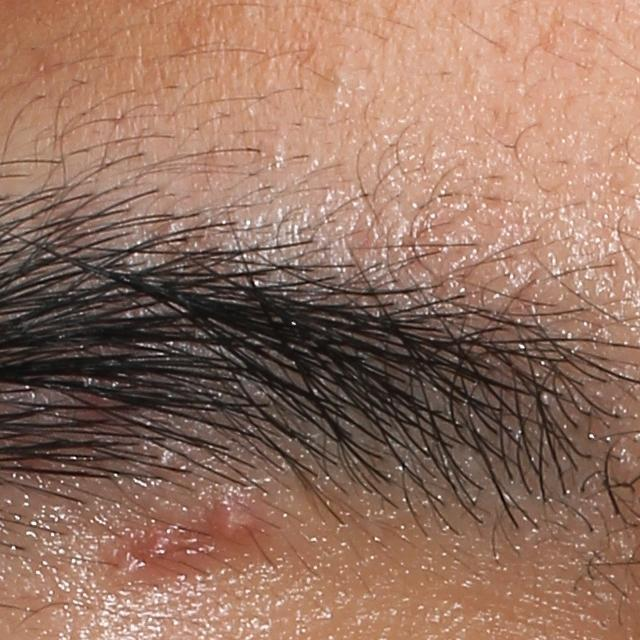comedo: (326, 66, 356, 91)
pustule: (100, 518, 210, 586), (217, 496, 260, 549)
